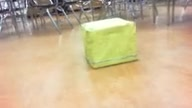cube: (81, 17, 136, 69)
